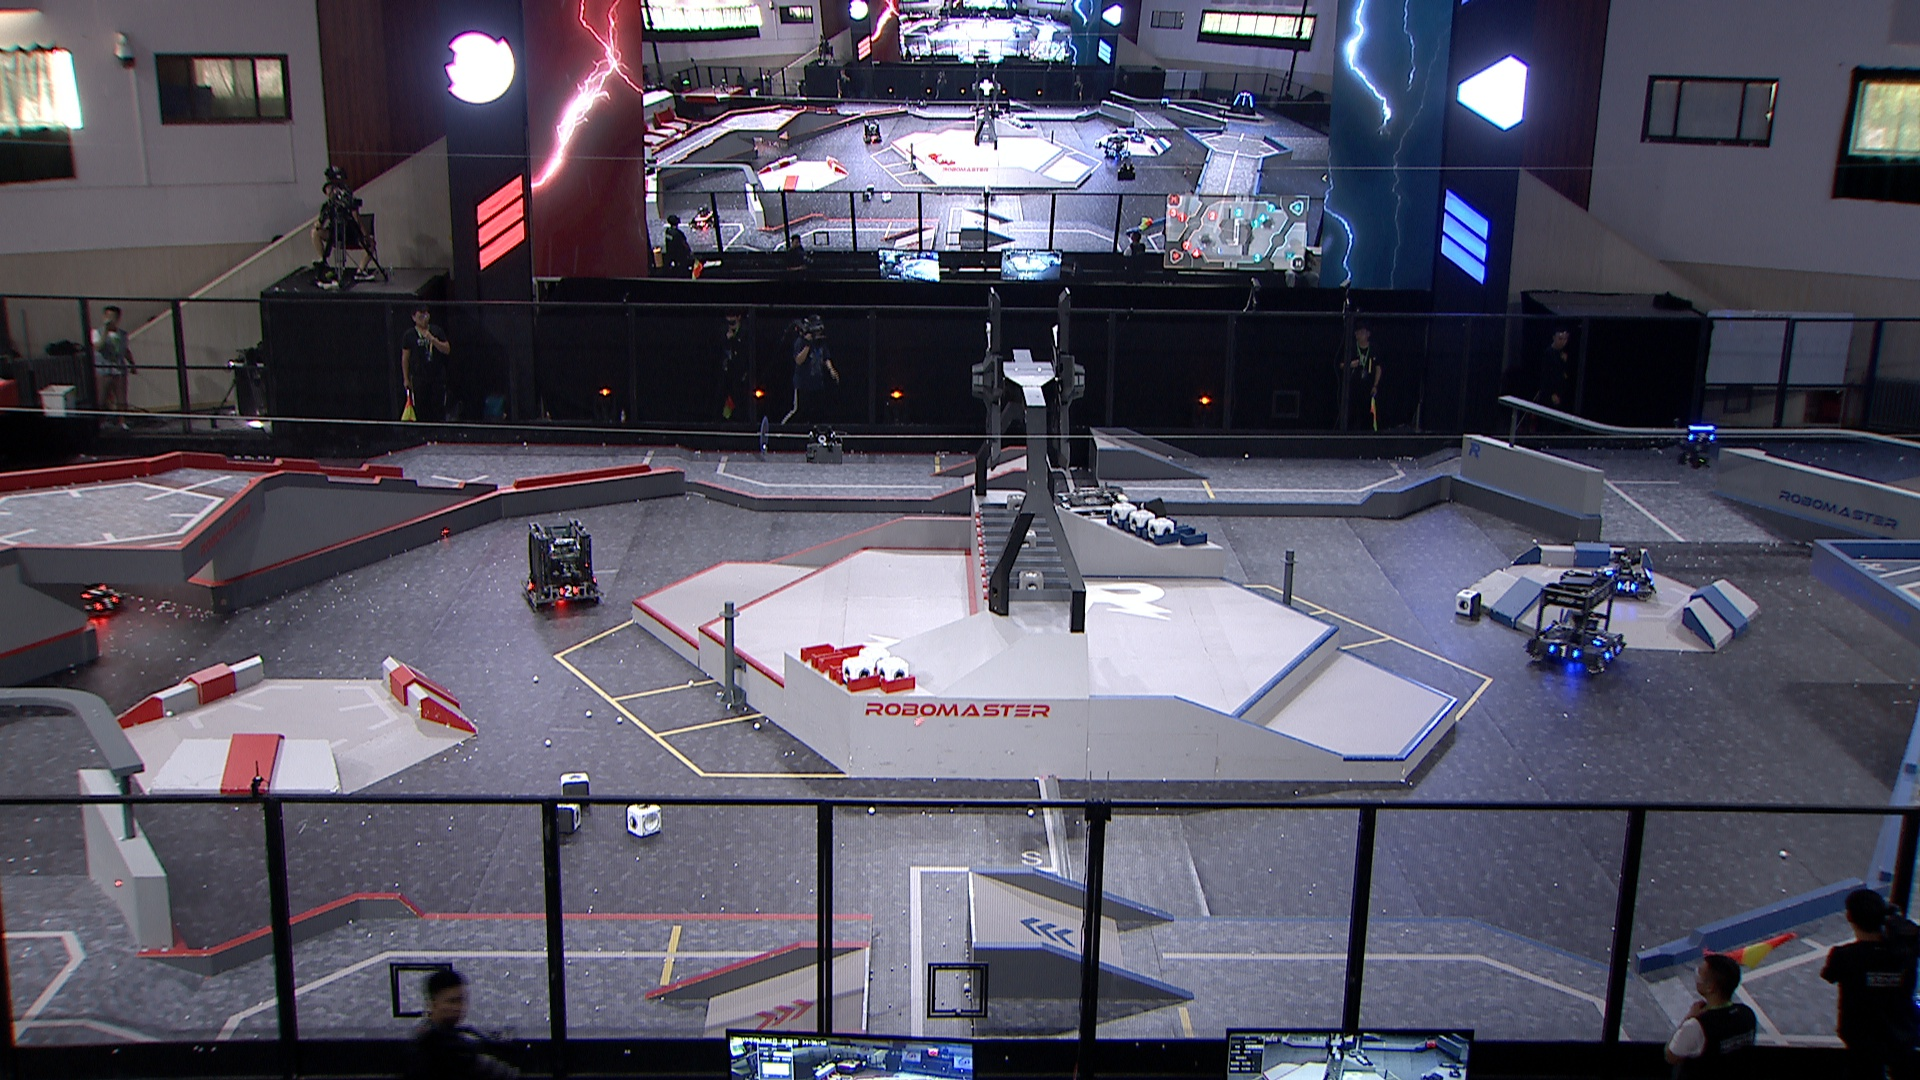armor: (1548, 644, 1580, 661), (94, 593, 119, 613), (80, 583, 107, 599), (517, 575, 537, 593), (1604, 644, 1622, 661), (1589, 632, 1609, 647), (556, 585, 582, 597), (1689, 429, 1713, 440), (1615, 579, 1634, 593), (1600, 564, 1614, 576)
car: (1519, 566, 1629, 678), (1058, 481, 1153, 575), (510, 520, 600, 615), (55, 559, 141, 626), (1592, 543, 1660, 607)
ignore: (1098, 131, 1130, 166), (858, 117, 889, 145), (1229, 91, 1259, 119), (688, 204, 717, 232), (1156, 92, 1174, 117), (1131, 123, 1149, 146), (642, 158, 659, 178), (1448, 1063, 1465, 1080)
watcher: (1673, 414, 1720, 465)
